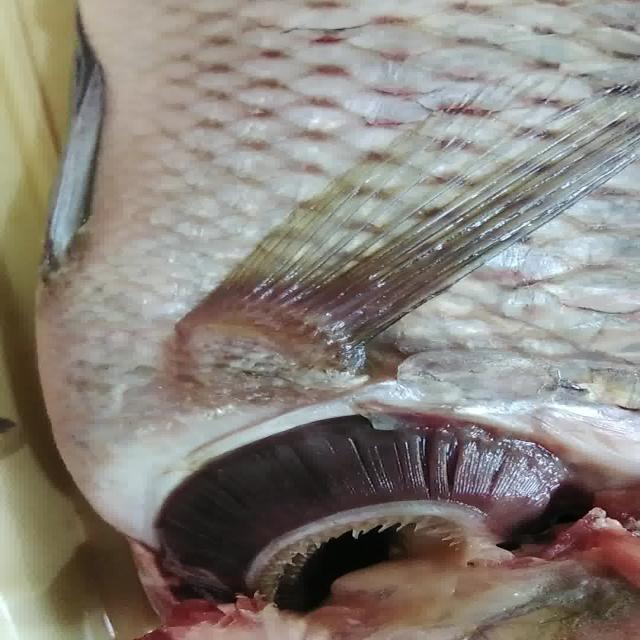Non-Fresh: (125, 407, 592, 591)
